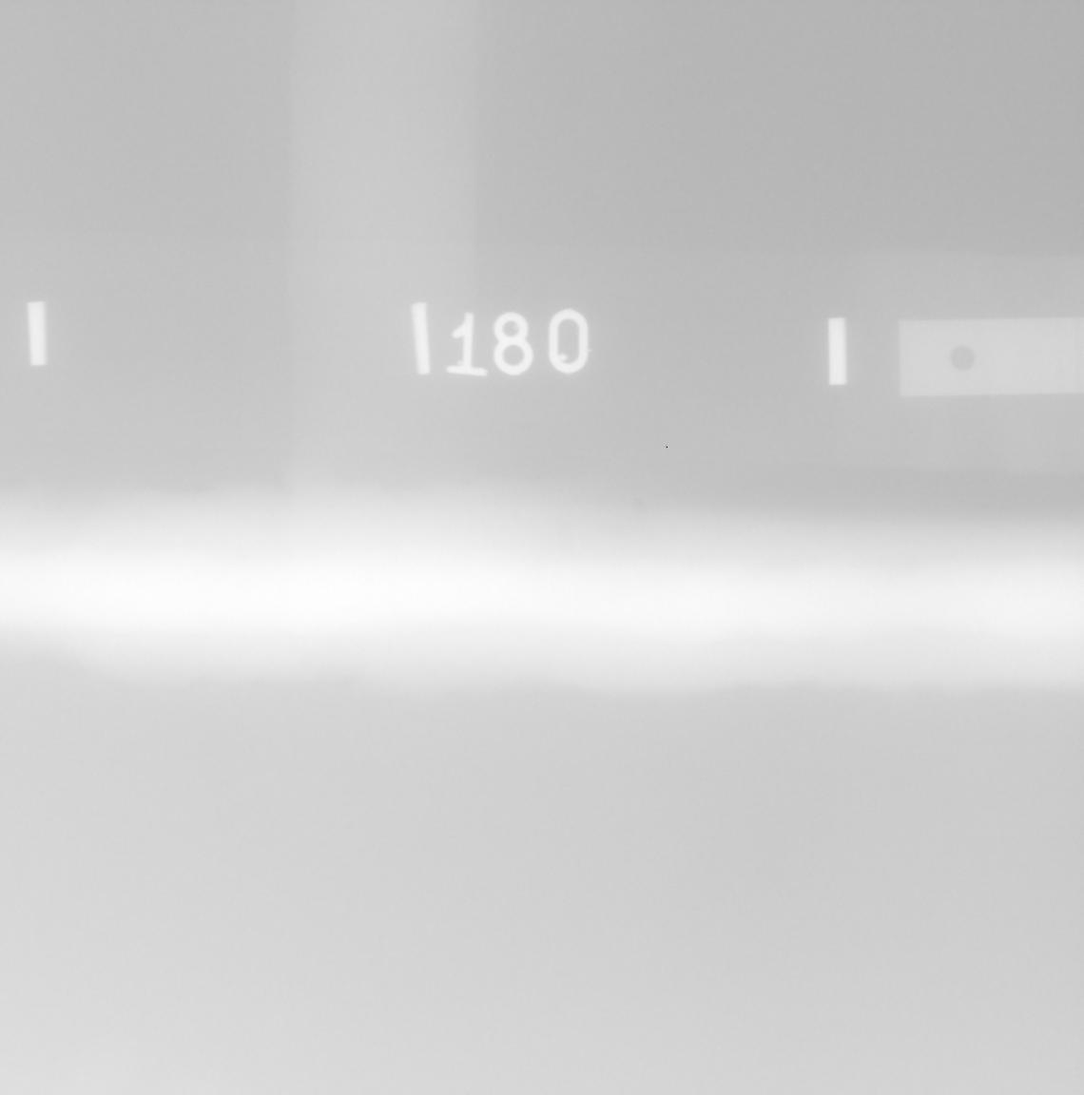Inclusion: (555, 518, 575, 559)
Pore/Porosity: (630, 498, 646, 513)
